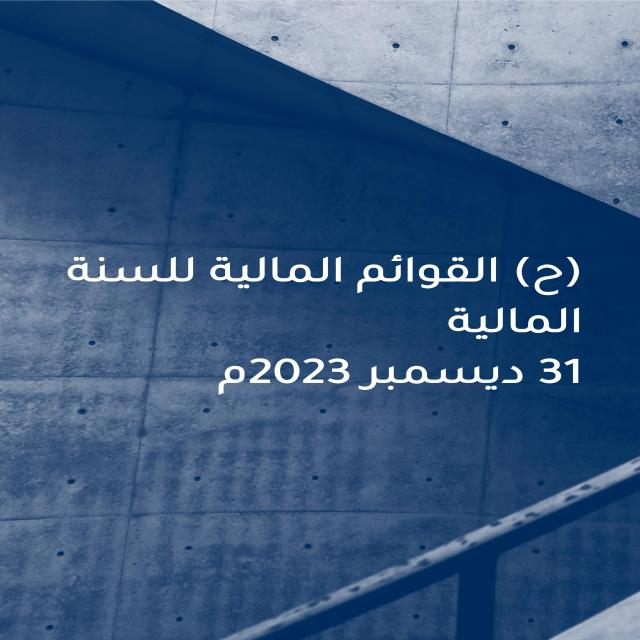other: (54, 236, 596, 420)
